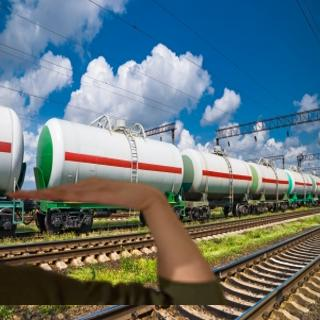WAIT: (6, 173, 157, 212)
